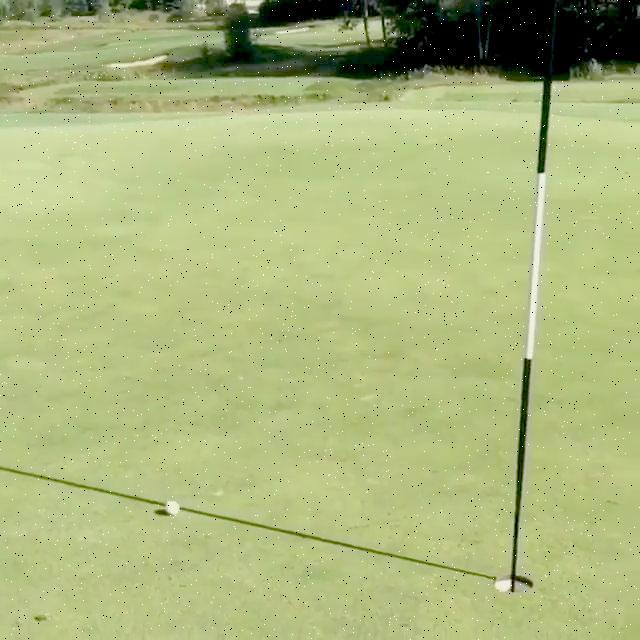golf ball: (164, 500, 179, 518)
